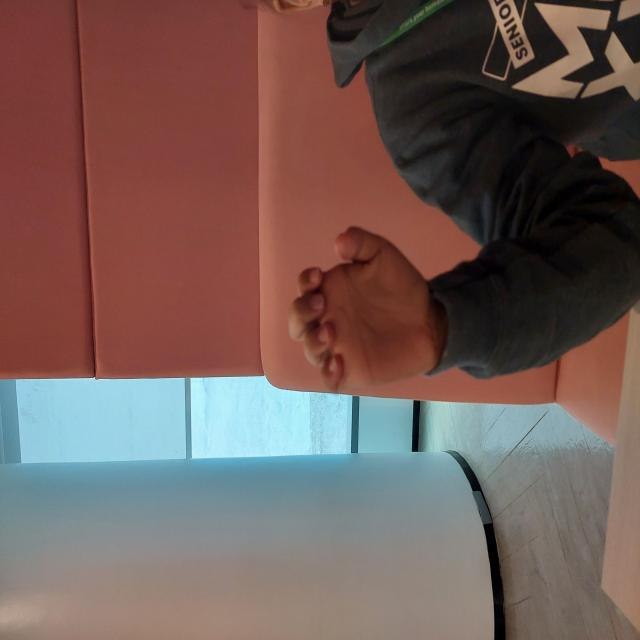E: (244, 282, 420, 443)
